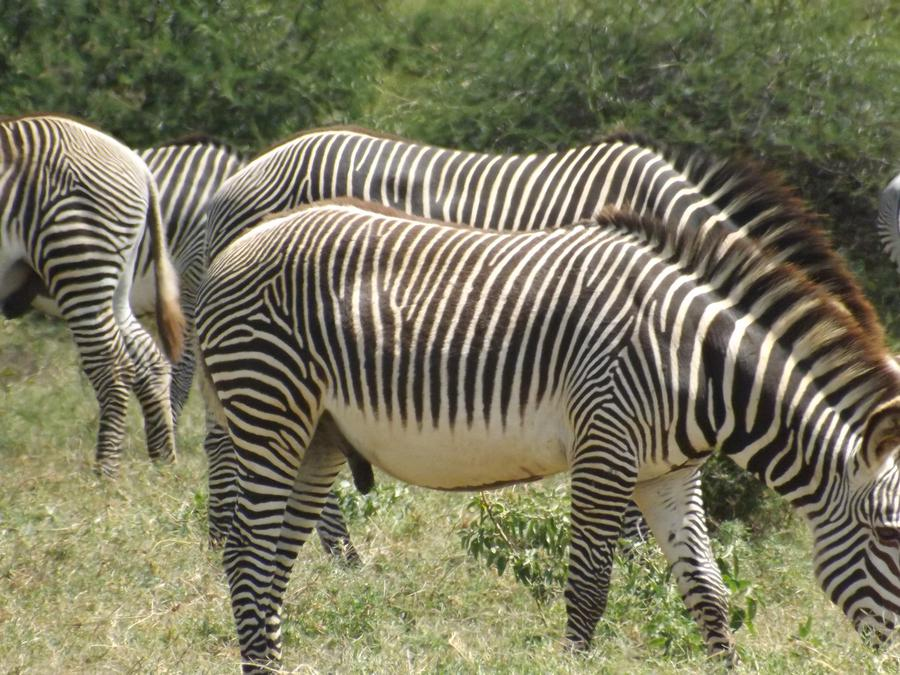zebra_grevys: (198, 197, 654, 472)
